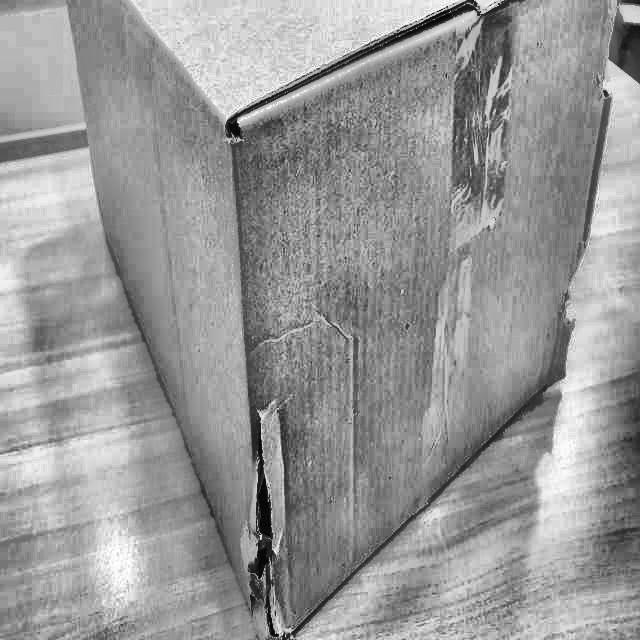box: (55, 0, 633, 639)
hole: (247, 419, 277, 640)
